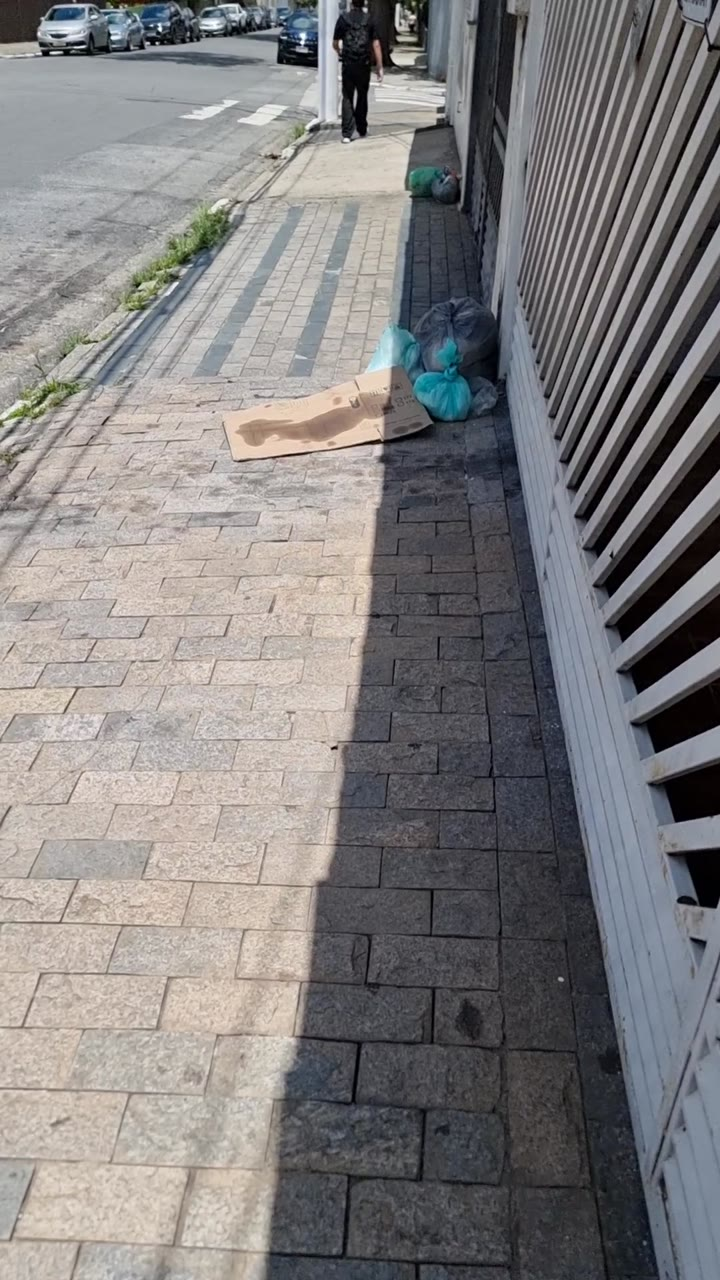obstaculo: (414, 297, 498, 378)
